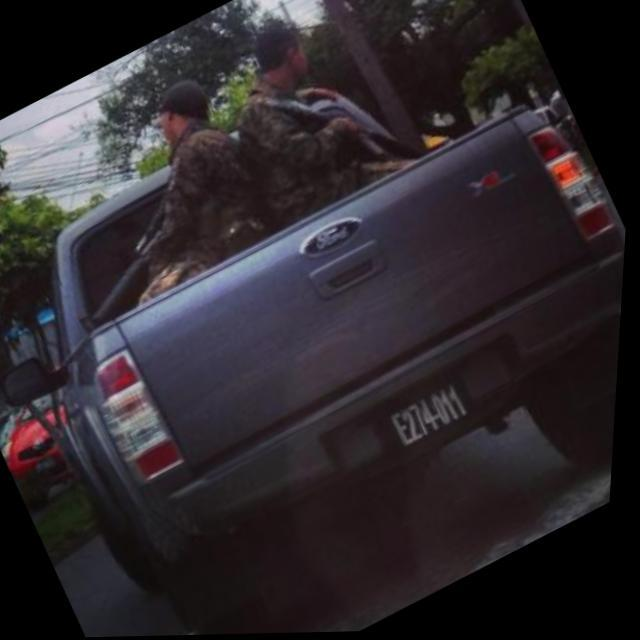license_plate: (375, 376, 485, 462)
